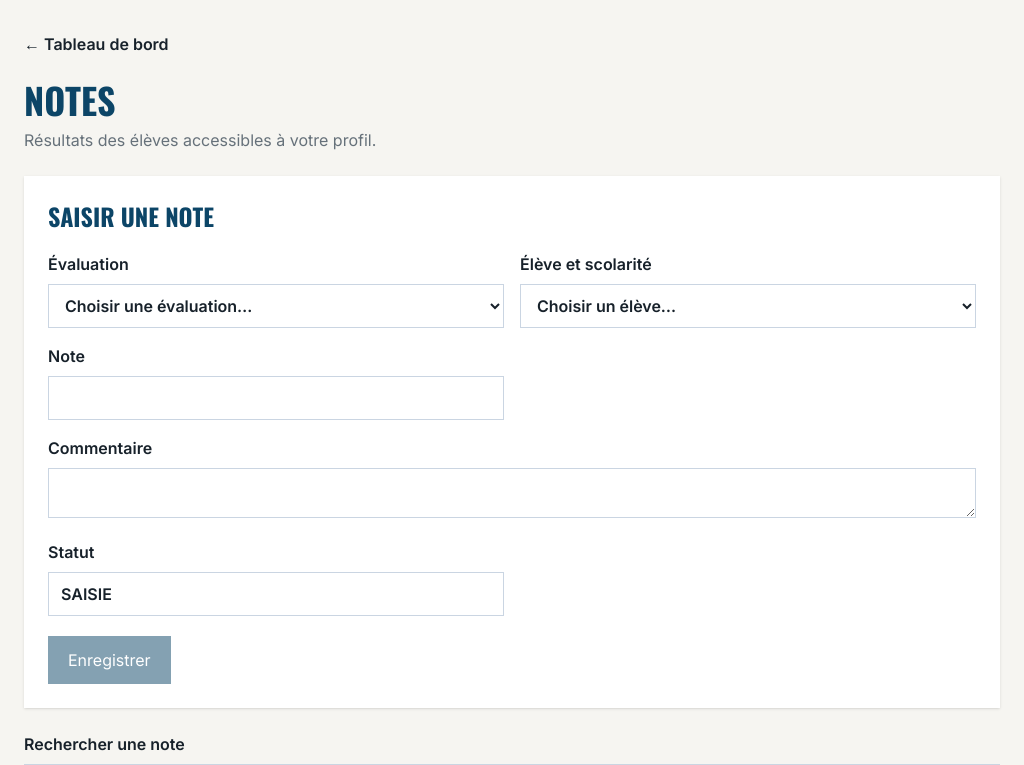
Test case: filtre les scolarités par classe et bloque une note au-dessus du barème
Select "Contrôle · Matière indisponible · Classe indisponible · /20" in the dropdown labelled "Évaluation" at {"x": 276, "y": 306}, box [48, 284, 504, 328]
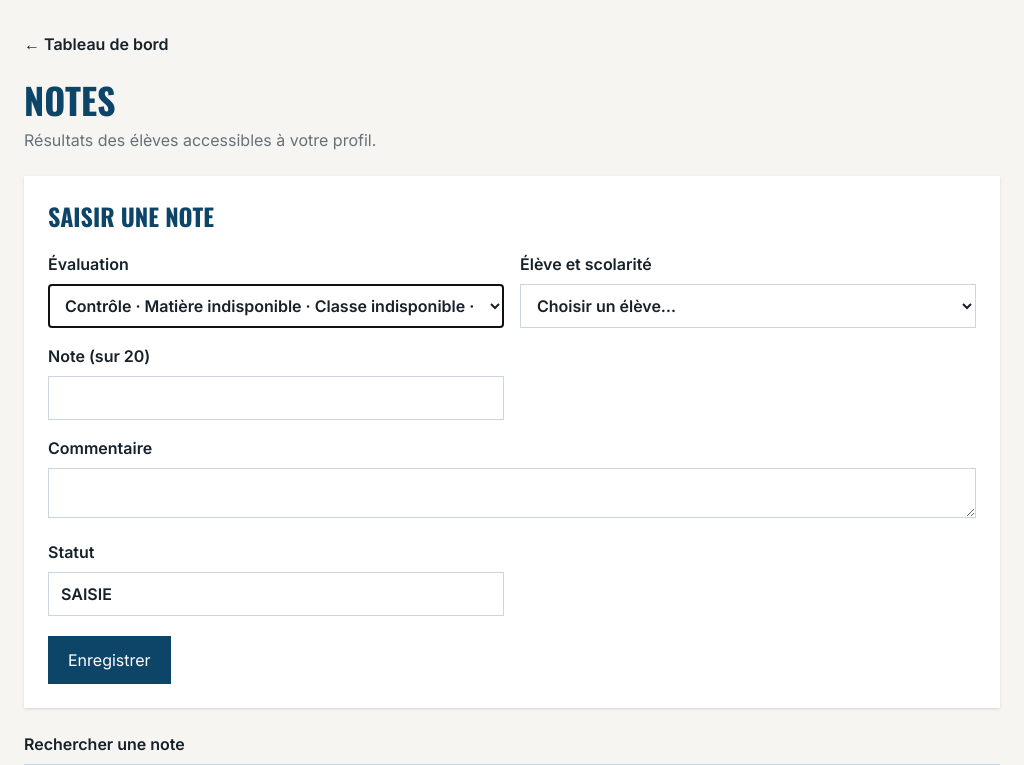
Select "Élève indisponible · Classe indisponible · 2026-09-01" in the dropdown labelled "Élève et scolarité" at {"x": 748, "y": 306}, box [520, 284, 976, 328]
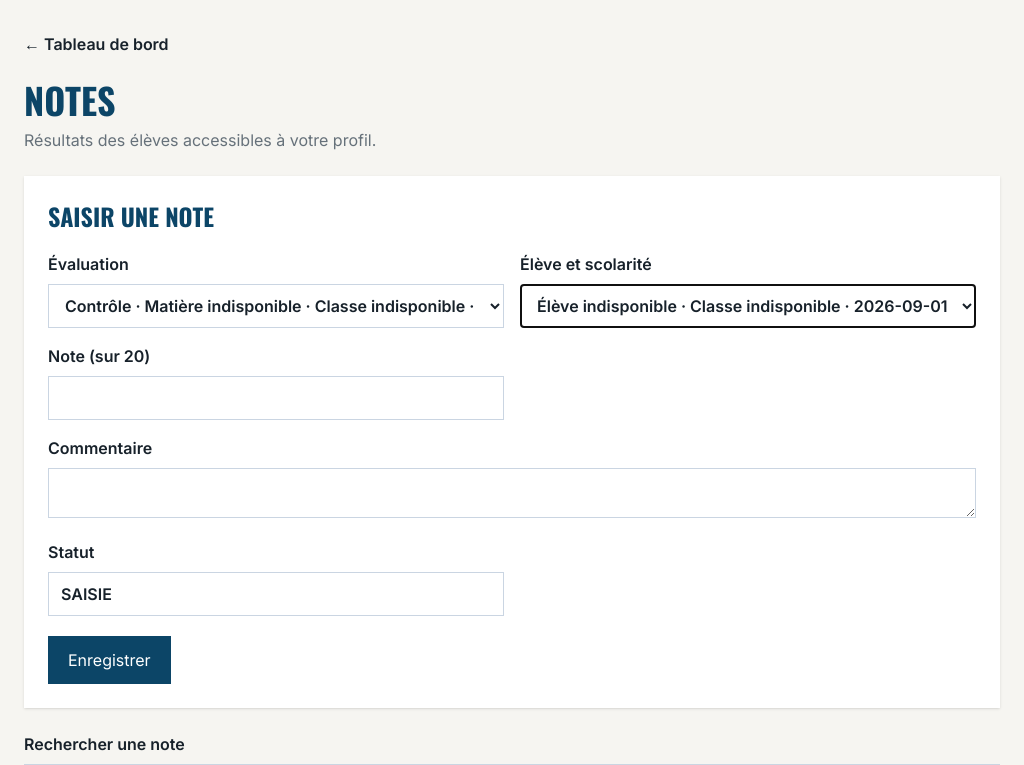
Type "21" into the number field labelled "Note (sur 20)" at {"x": 276, "y": 398}, box [48, 376, 504, 420]
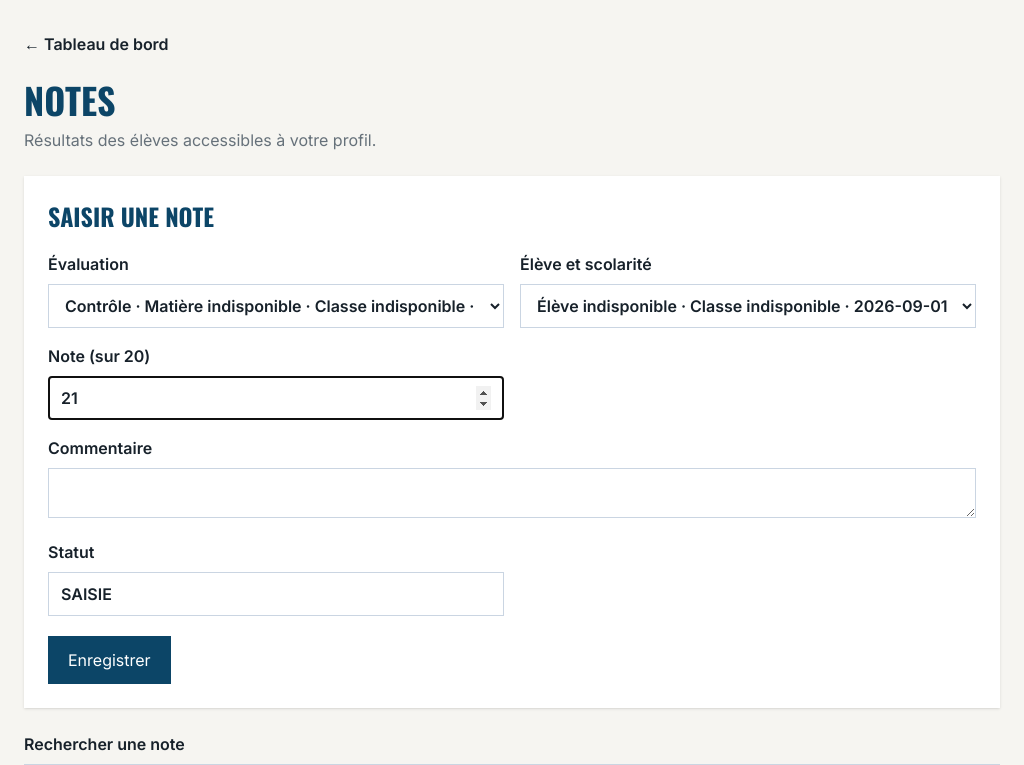
Submit the form named "Enregistrer"
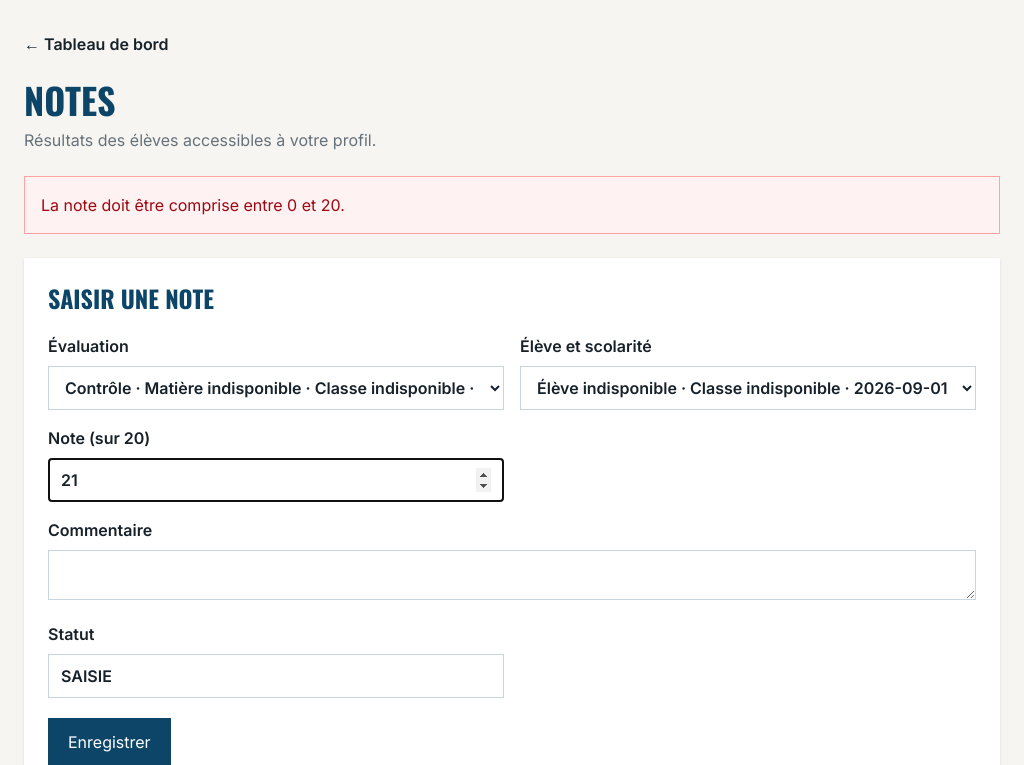
Now the message reads "La note doit être comprise entre 0 et 20.", box [41, 195, 345, 215]
